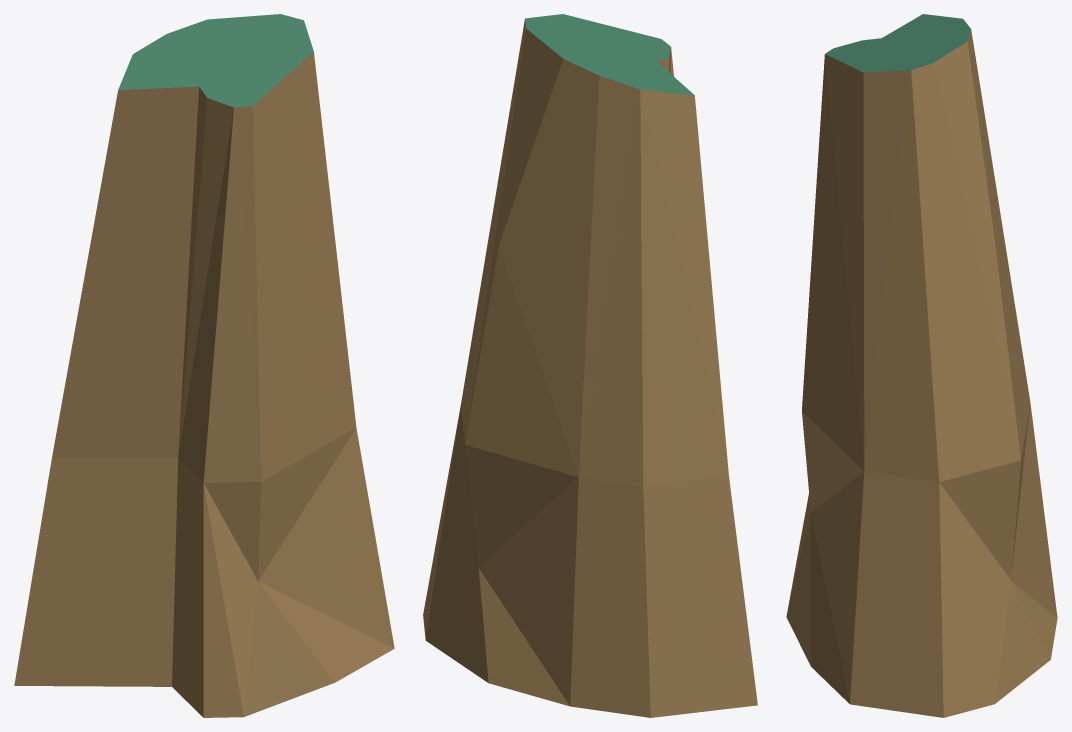
The model's file is Rock_Large_Mesa_Eroded_Moss_Grass_02.FBX.
3 renders of one model, left to right at view 1: azimuth 30°, elevation 25°; view 2: azimuth 150°, elevation 25°; view 3: azimuth 270°, elevation 25°, orthographic. The views are drawn at different scales.
Parts seen in each view (by area): view 1: Rock_Large_Mesa_Eroded_Moss_Grass_02; view 2: Rock_Large_Mesa_Eroded_Moss_Grass_02; view 3: Rock_Large_Mesa_Eroded_Moss_Grass_02.
Part boxes in pixels (bbox=[...]): Rock_Large_Mesa_Eroded_Moss_Grass_02: bbox=[14, 14, 394, 717]; Rock_Large_Mesa_Eroded_Moss_Grass_02: bbox=[423, 14, 757, 717]; Rock_Large_Mesa_Eroded_Moss_Grass_02: bbox=[786, 14, 1057, 717].
Size of the model in its own units: 7375 by 12442 by 5036.
